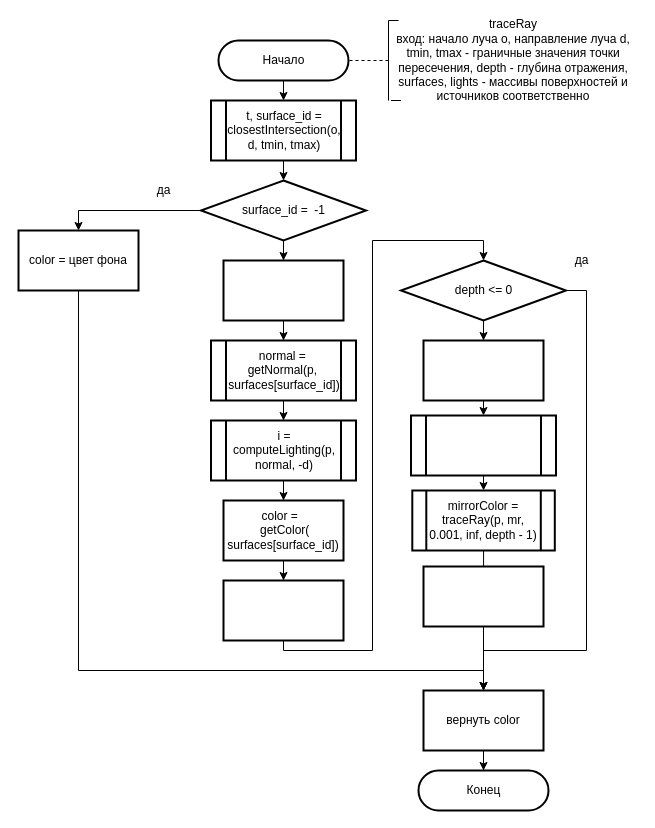
Image size: 655x828. Some labels were removed from this diagram. Here are the shapes that lost their labels. From the top down, the centre of each, then its label:
At point (283, 290): "p = o + d * closest_t".
At point (483, 370): "mirrorCoef = getMirrorCoef( surfaces[surface_id])".
At point (483, 445): "mr = mirrorRay(-d, normal)".
At point (283, 610): "color *= i".
At point (483, 596): "color = color * (1 - mirrorCoef) + mirrorColor * mirrorCoef".
